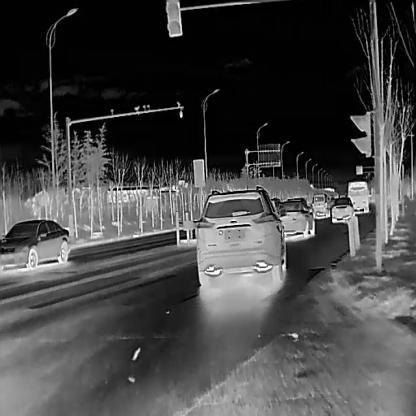car: (196, 184, 285, 284), (0, 218, 70, 269), (275, 198, 314, 238), (345, 180, 369, 212), (329, 197, 353, 223), (311, 202, 329, 219), (311, 193, 326, 202)
